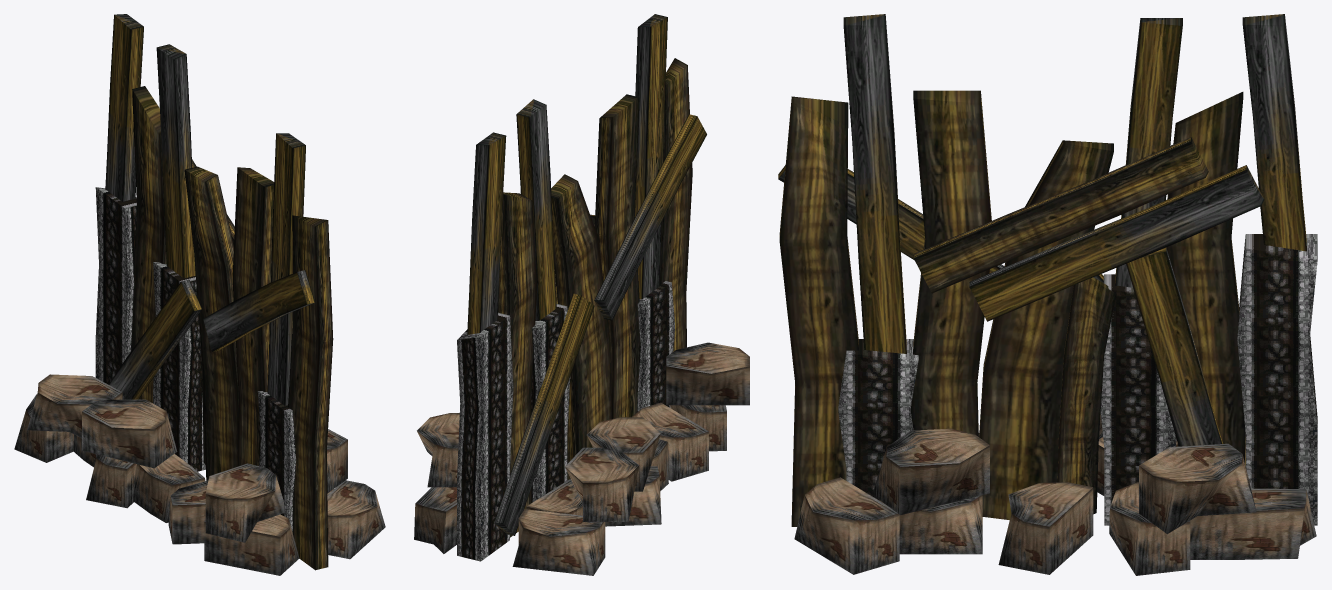
The model's file is CB_WOOD_BARACADE03.obj.
3 renders of one model, left to right at view 1: azimuth 30°, elevation 25°; view 2: azimuth 150°, elevation 25°; view 3: azimuth 270°, elevation 25°, orthographic. The views are drawn at different scales.
Parts seen in each view (by area): view 1: wood_baracade03; view 2: wood_baracade03; view 3: wood_baracade03.
Boxes of the visible parts, x1=… form: wood_baracade03: x1=14, y1=14, x2=385, y2=575; wood_baracade03: x1=414, y1=14, x2=749, y2=575; wood_baracade03: x1=778, y1=14, x2=1317, y2=575.
Size of the model in its own units: 214 by 376 by 364.
